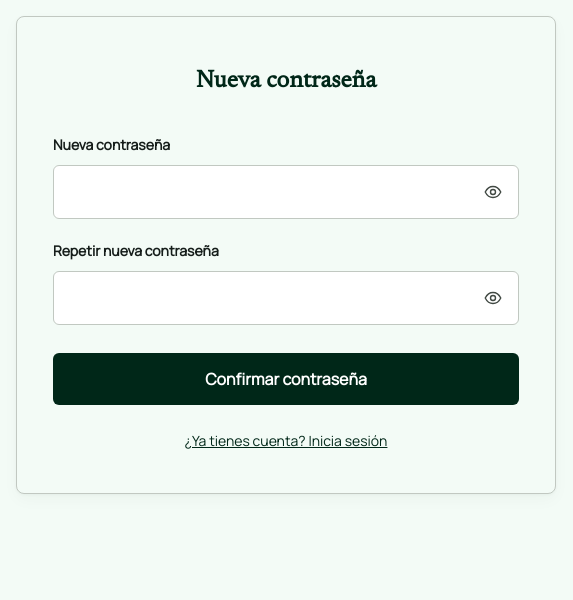
it: ResetPassword Page › shows a rate limit notice on 429 keeping the form
The image size is (573, 600).
Type "Password123!" into the password field labelled "Nueva contraseña".
click(286, 192); type("Password123!")  # box [53,165,519,219]
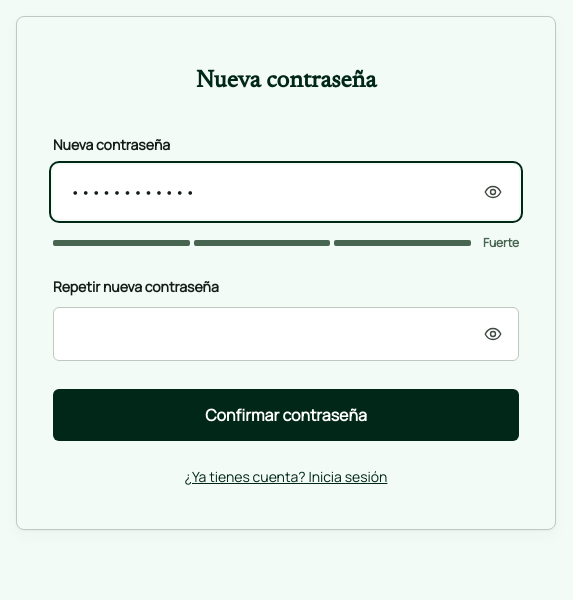
Type "Password123!" into the password field labelled "Repetir nueva contraseña".
click(286, 334); type("Password123!")  # box [53,307,519,361]
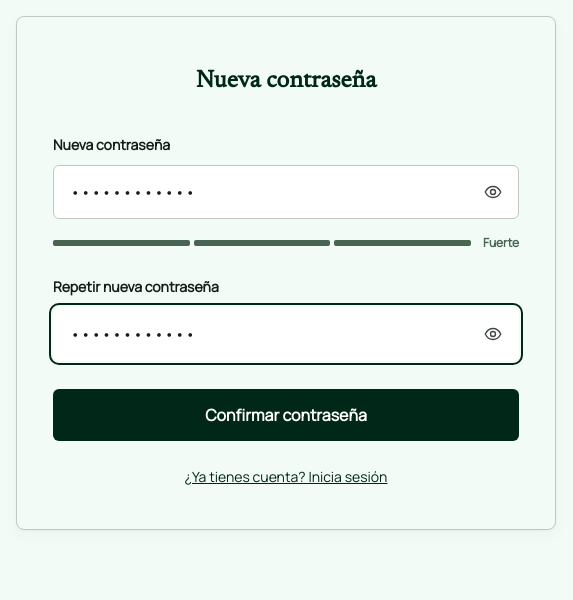
Click the button "Confirmar contraseña".
click(286, 415)  # box [53,389,519,441]
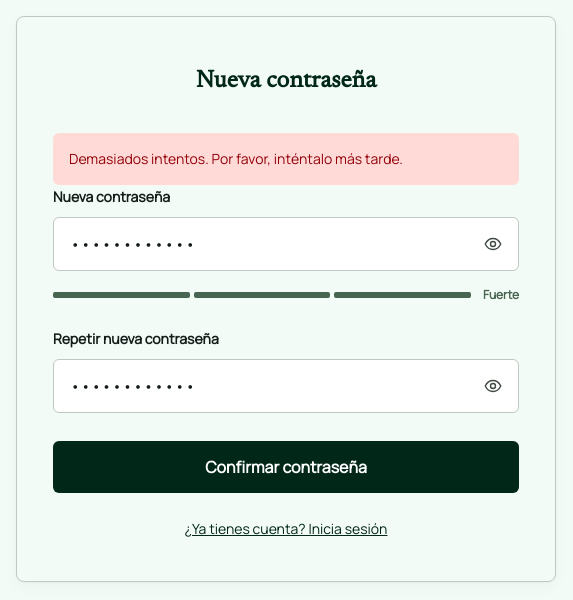
Expected: the button "Confirmar contraseña" is shown, [53,441,519,493]
Now the text "Demasiados intentos. Por favor, inténtalo más tarde." is shown, box [53,133,519,185]
